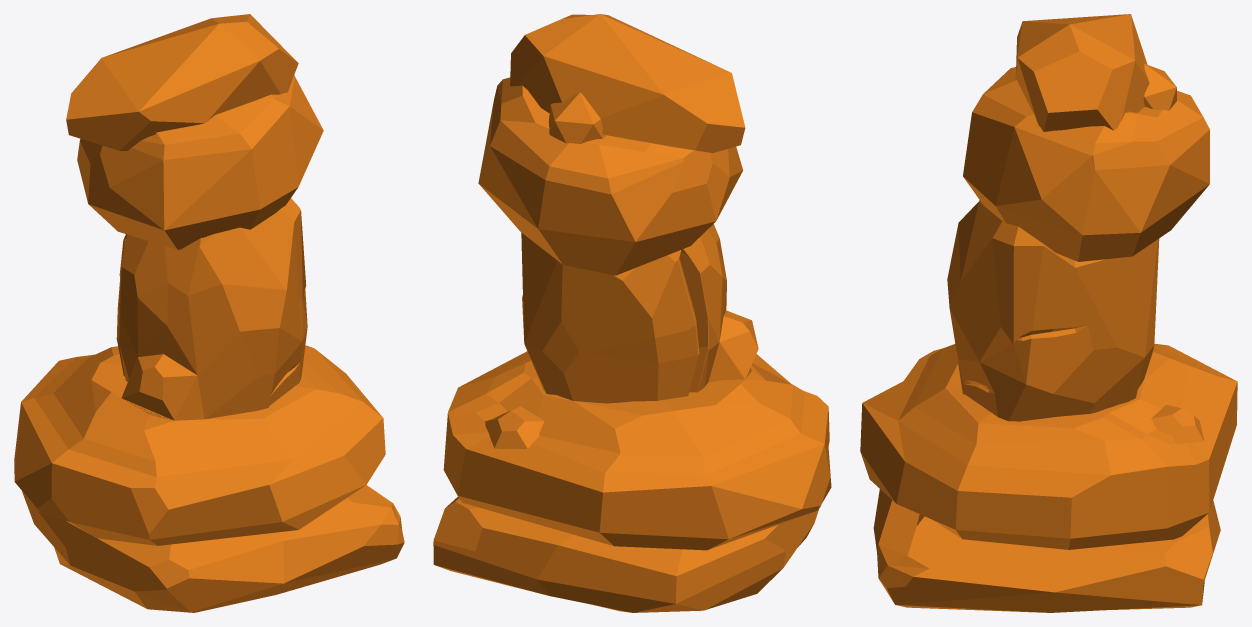
The model's file is NIO_DesertRock2.fbx.
3 renders of one model, left to right at view 1: azimuth 30°, elevation 25°; view 2: azimuth 150°, elevation 25°; view 3: azimuth 270°, elevation 25°, orthographic. The views are drawn at different scales.
Parts seen in each view (by area): view 1: Cube; view 2: Cube; view 3: Cube.
Part boxes in pixels (box(x1,y1,x2,y2)): Cube: box(14, 14, 404, 612); Cube: box(433, 14, 831, 612); Cube: box(860, 14, 1237, 612).
Size of the model in its own units: 319 by 475 by 298.
